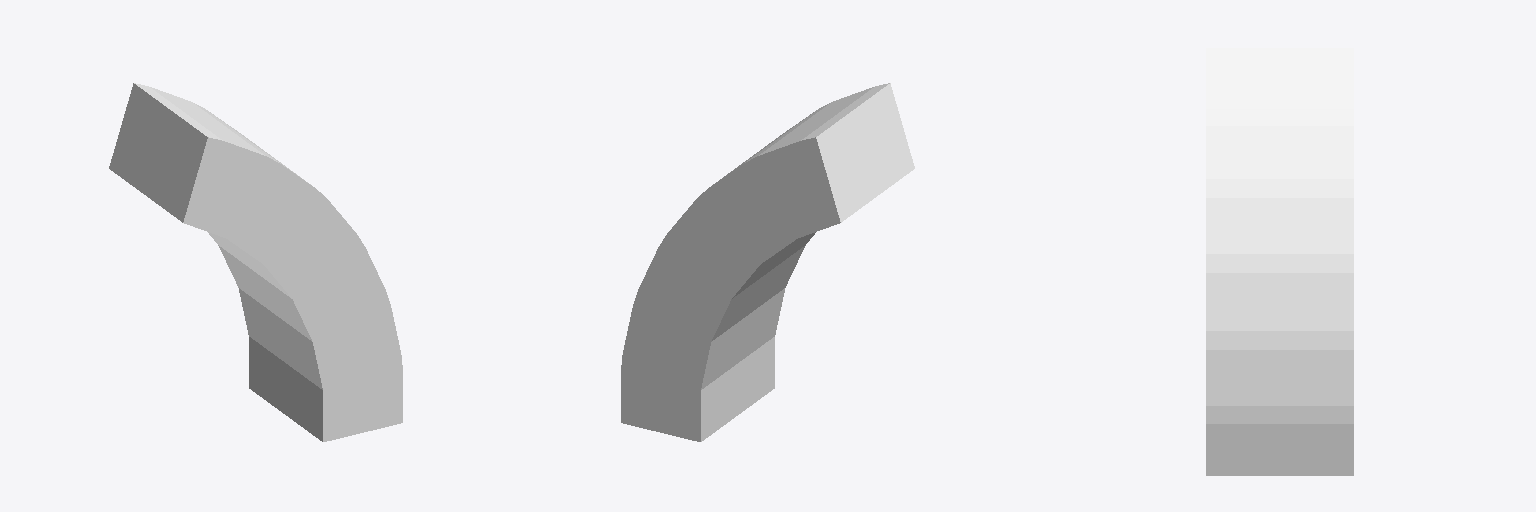
Rendered from smooth_gothic_arch_3.obj.
3 views of the same model, side by side, from view 1: azimuth 30°, elevation 25°; view 2: azimuth 150°, elevation 25°; view 3: azimuth 270°, elevation 25° (orthographic).
Parts seen in each view (by area): view 1: cube.038; view 2: cube.038; view 3: cube.038.
Boxes of the visible parts, <box> form: cube.038: <box>109,83,402,441</box>; cube.038: <box>621,83,914,441</box>; cube.038: <box>1206,48,1353,475</box>.
Bounding box in the file's own units: 1.73 × 2.51 × 1.02.